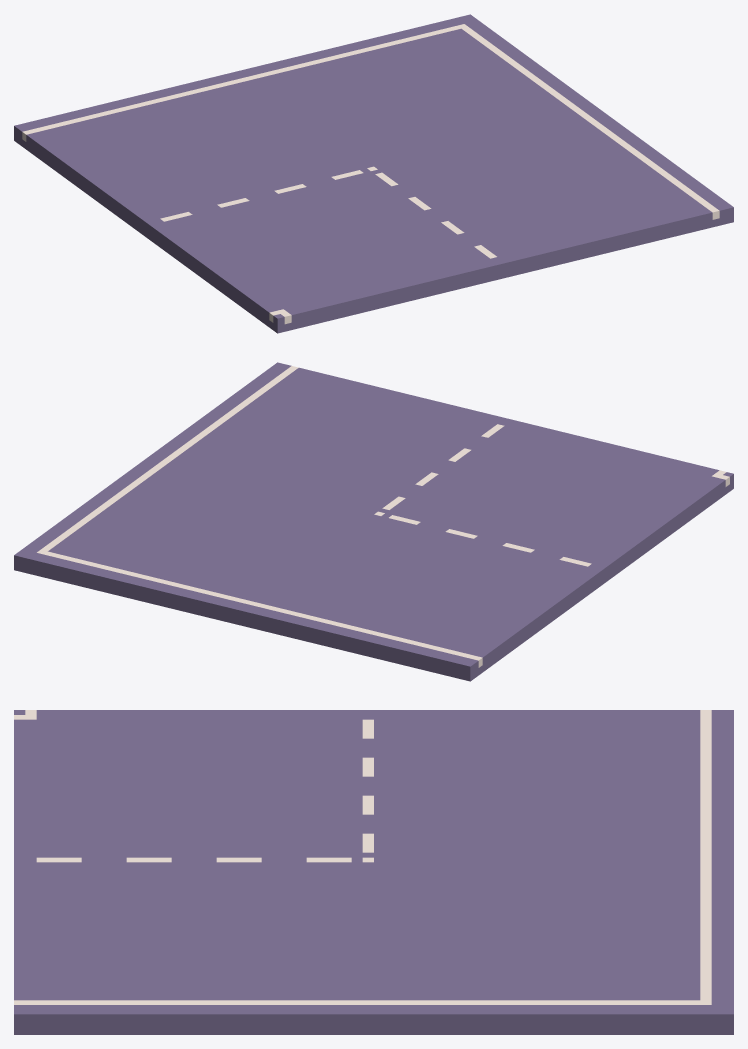
Rendered from road_b_corner.obj.
The picture shows the model from 3 angles, top to bottom: view 1: azimuth 30°, elevation 25°; view 2: azimuth 150°, elevation 25°; view 3: azimuth 270°, elevation 25°; orthographic projection. The views are drawn at different scales.
Size of the model in its own units: 6.4 by 0.2 by 6.4.
Materials: 1 (1 with a texture image).
